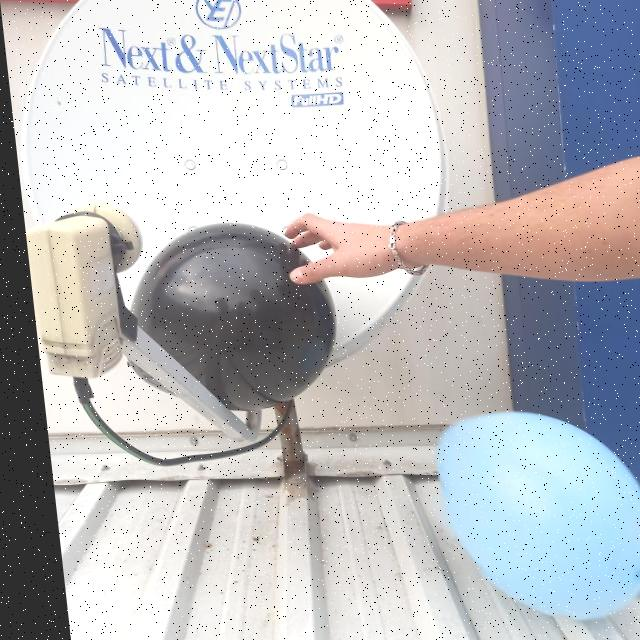balloon: (421, 411, 640, 618), (106, 223, 338, 412)
